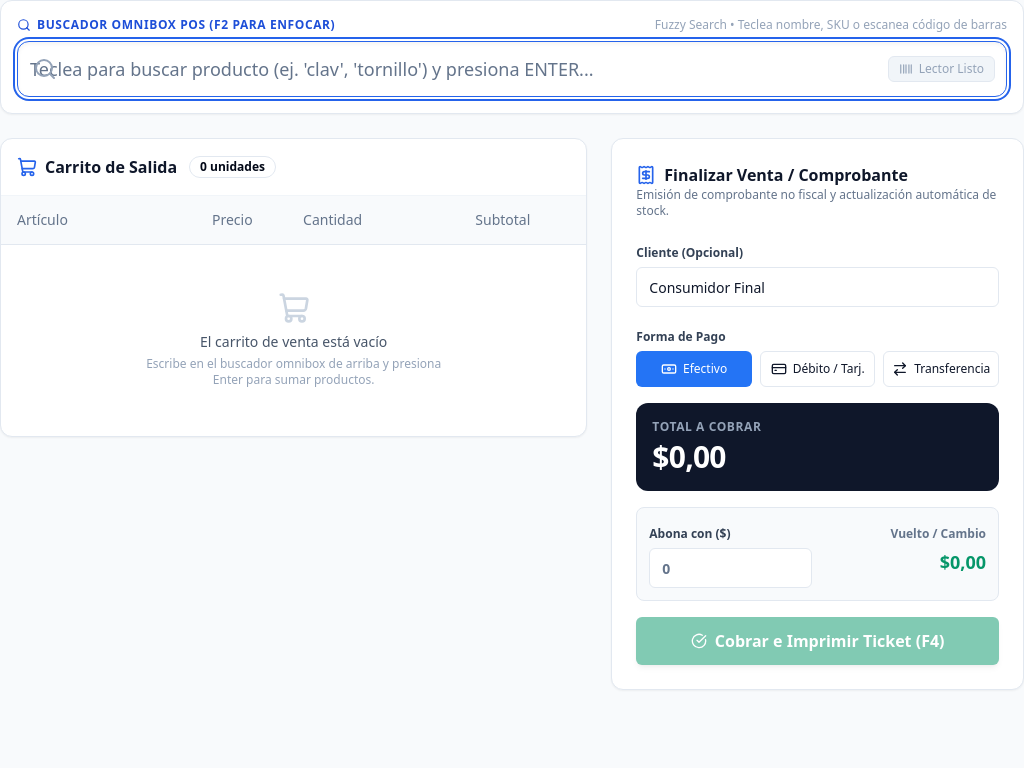
Test: PosView Component (Fuzzy Search & Omnibox) › should fuzzy search "clav" and display "Clavos punta París 2 pulgadas"
The image size is (1024, 768).
Replace the text in the field with placeholder "Teclea para buscar producto" with "clav": (512, 69) [17,41,1007,97]
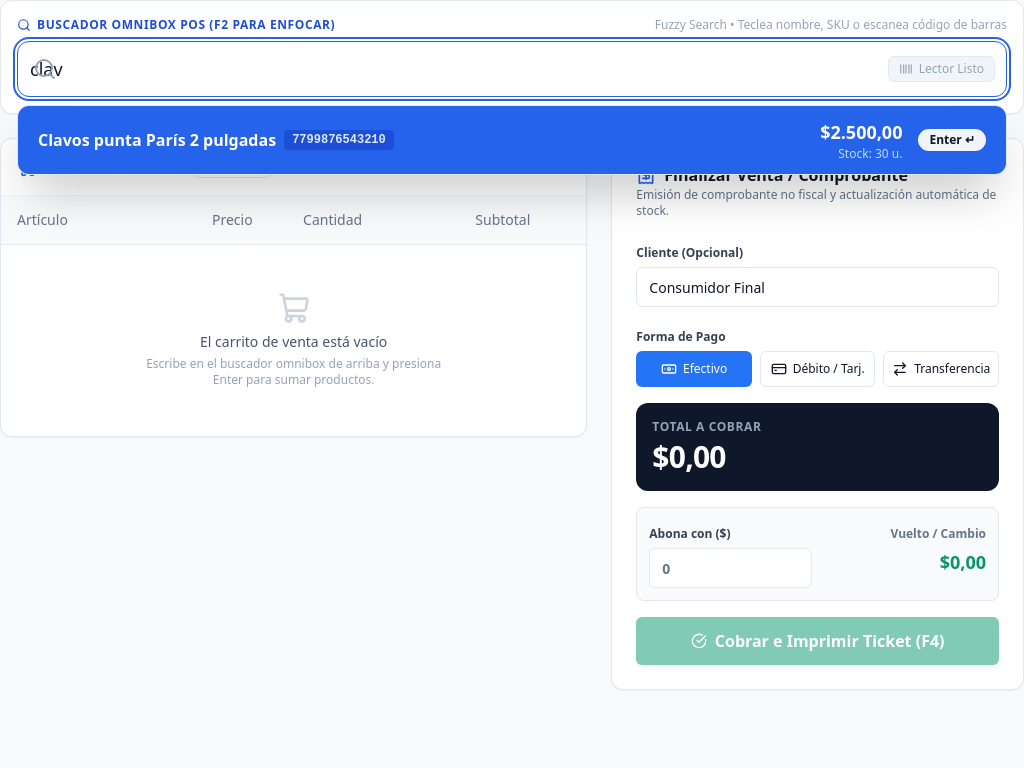
expect the button "Clavos punta París 2 pulgadas" is shown: met, box [18,106,1006,174]
